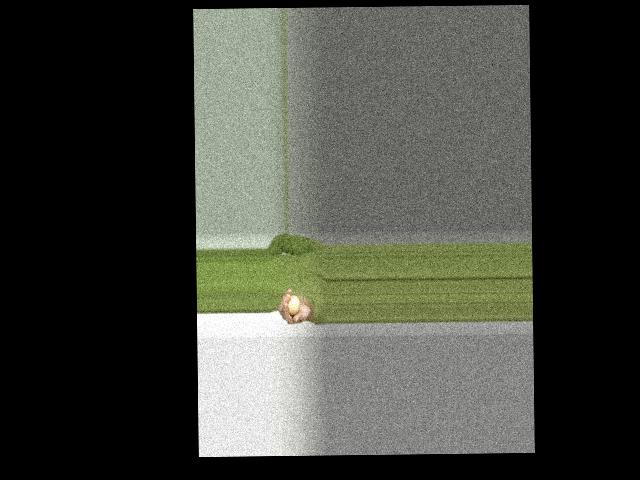egg: (287, 294, 299, 315)
